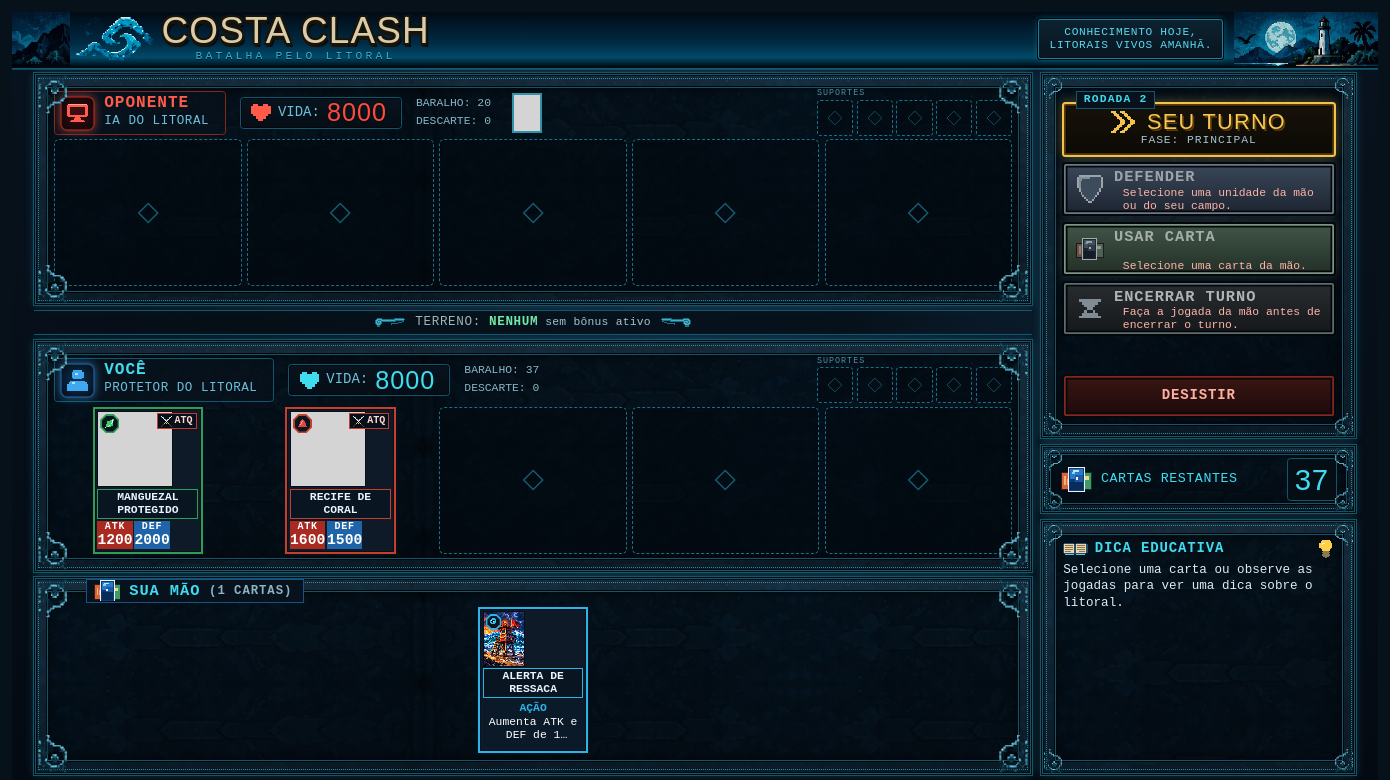
Partida: leitura do tabuleiro e jogadas › ação com alvo: destaca alvos válidos, rejeita inválidos e aplica o efeito pelo motor
The image size is (1390, 780).
Click the button with aria-label "Mão 1:": (533, 680) [478, 607, 588, 753]
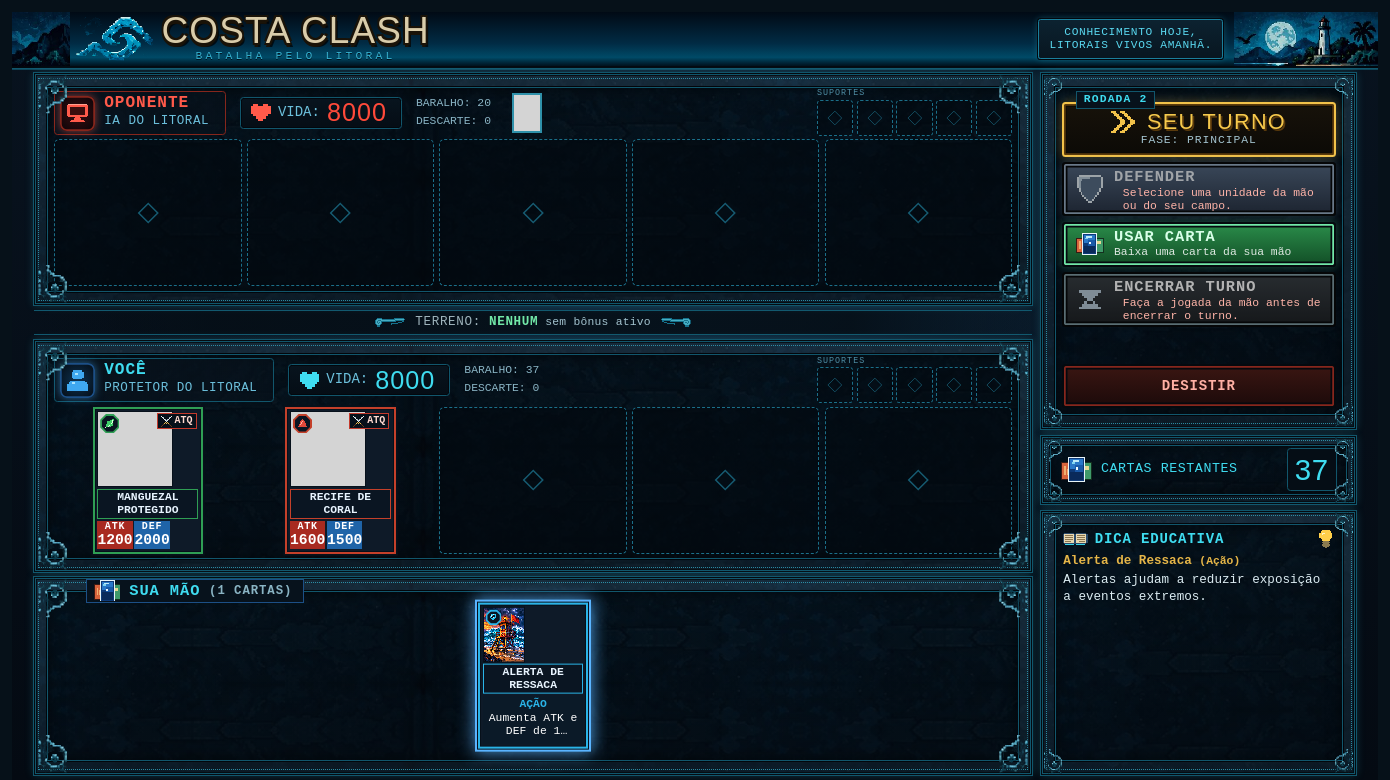
Click the button "Usar carta Baixa uma carta da sua mão": (1199, 244) [1062, 222, 1336, 267]
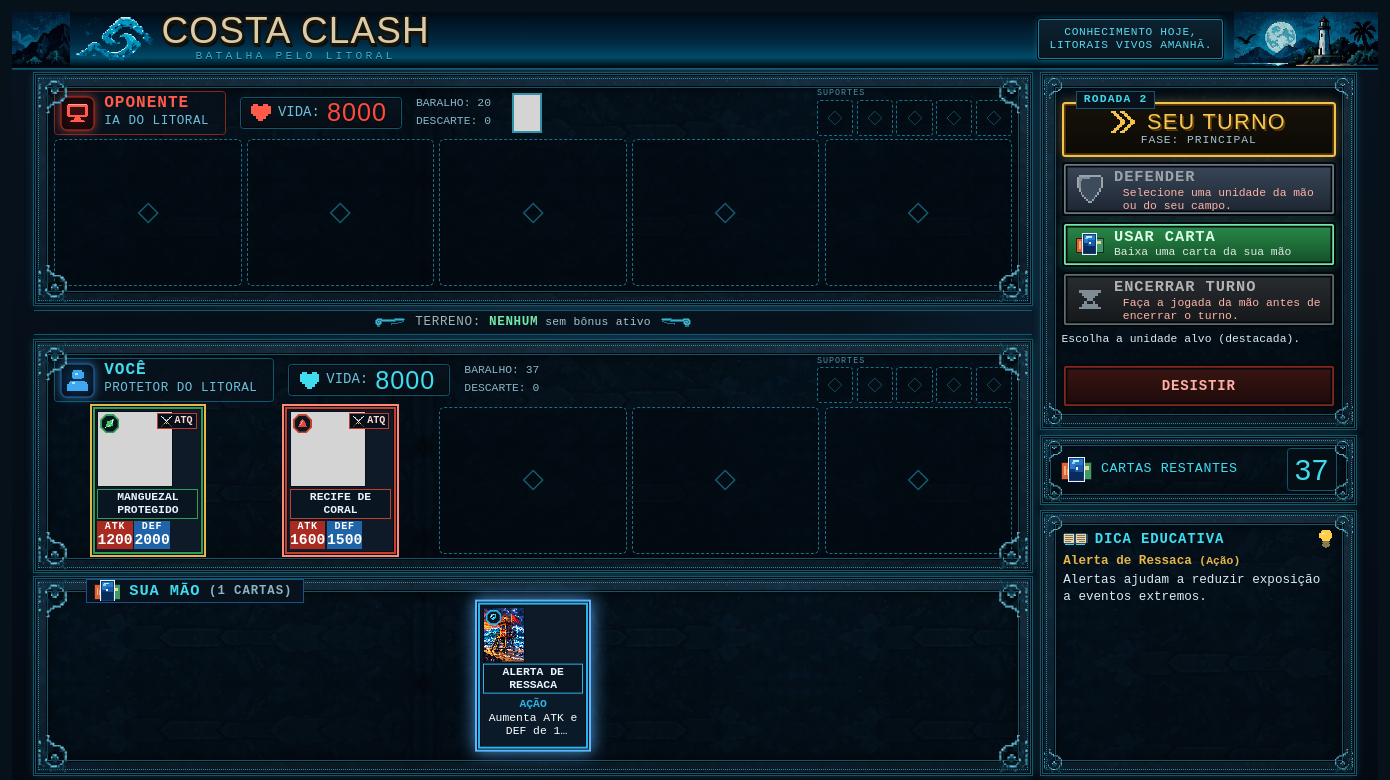
Expected: the button "Manguezal Protegido ATK 1200 DEF 2000 ATQ" is shown, [93, 407, 203, 554]
Click the button with aria-label "Zona 2 sua: Recife de Coral": (340, 480) [285, 407, 396, 554]
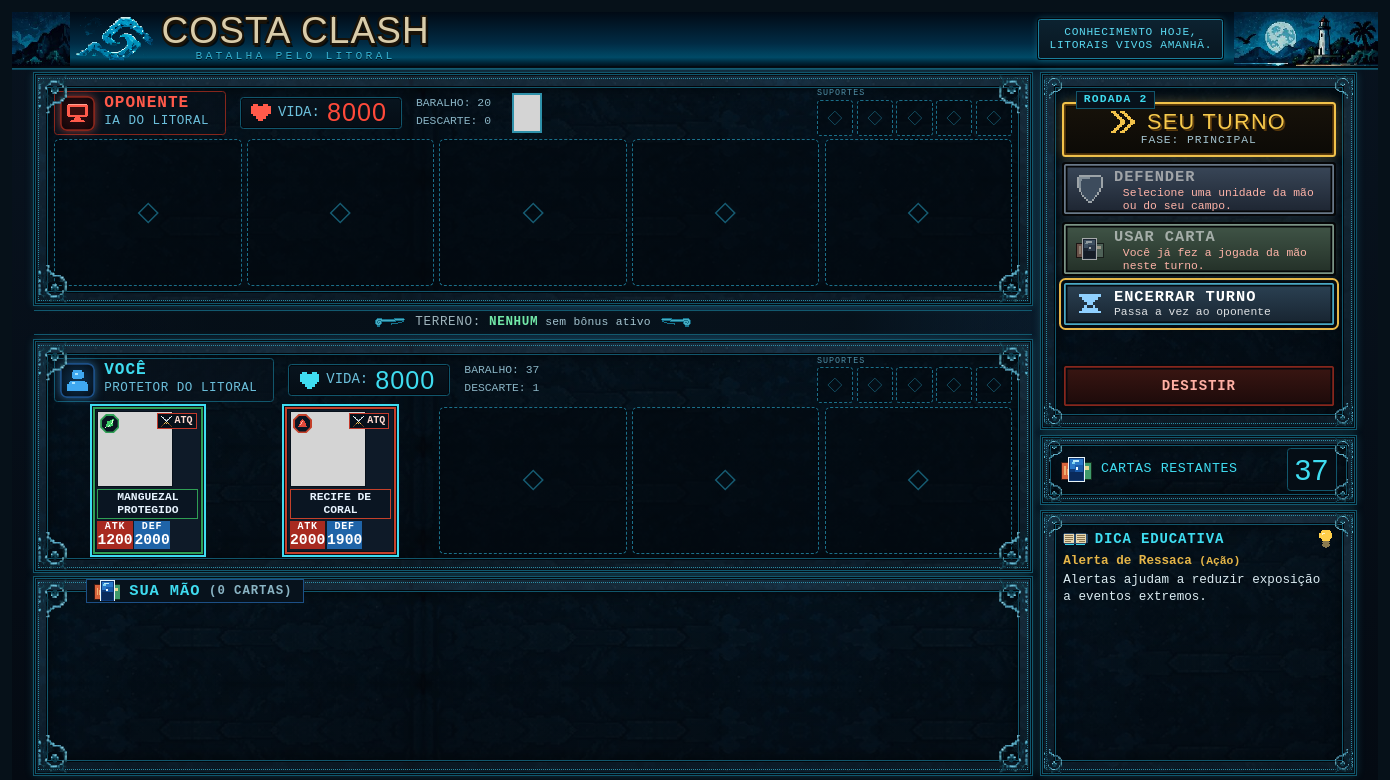
Result: the button with aria-label "Zona 2 sua: Recife de Coral, ATK 2000, DEF 1900" is shown at [285, 407, 396, 554]
